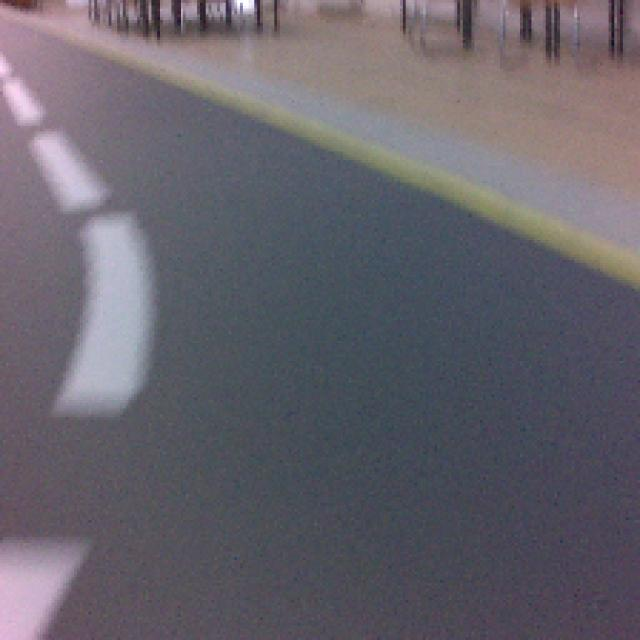Guard rail: (54, 214, 159, 419), (0, 543, 88, 640)
